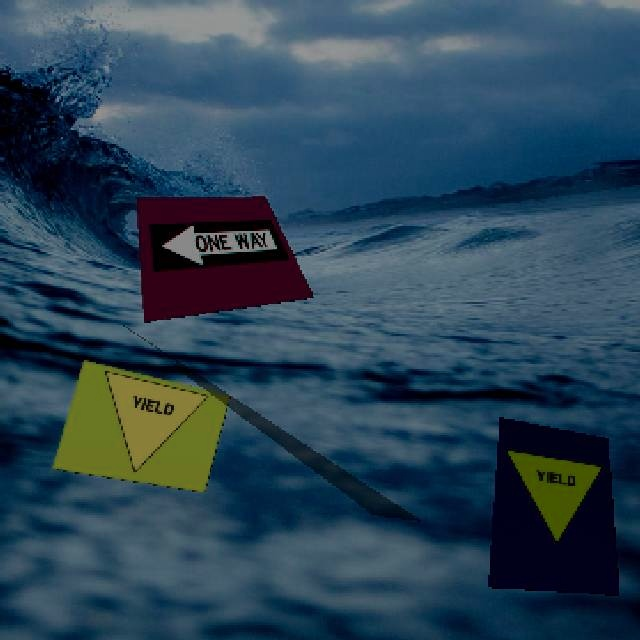ONE_WAY_ left: (148, 219, 288, 270)
YIELD: (77, 368, 208, 485), (491, 439, 609, 557)
